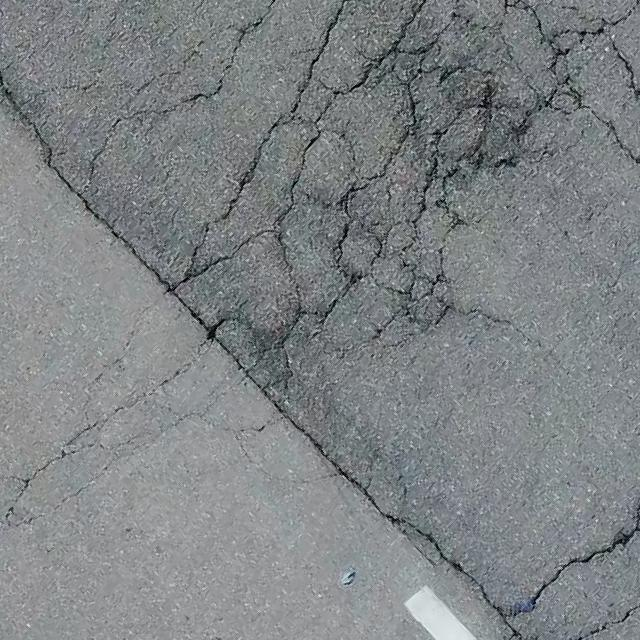GRIETA: (0, 74, 528, 639), (510, 502, 639, 616), (566, 602, 639, 639)
PIEL DE COCODRILO: (77, 0, 639, 390), (0, 287, 345, 540)
